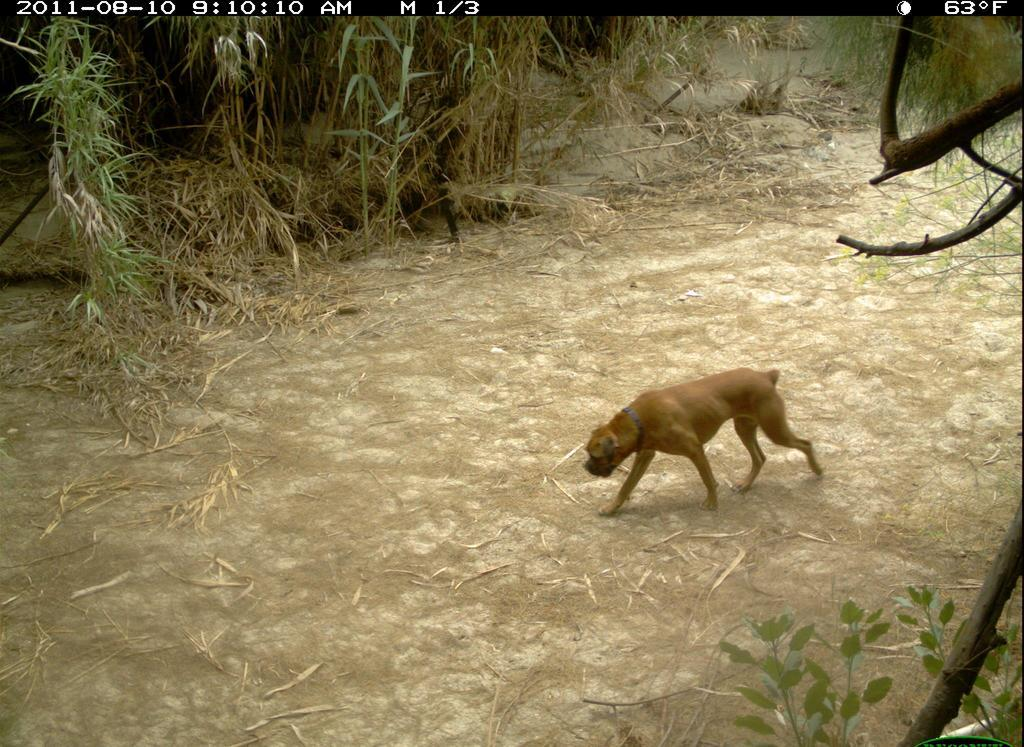dog: (577, 361, 840, 528)
